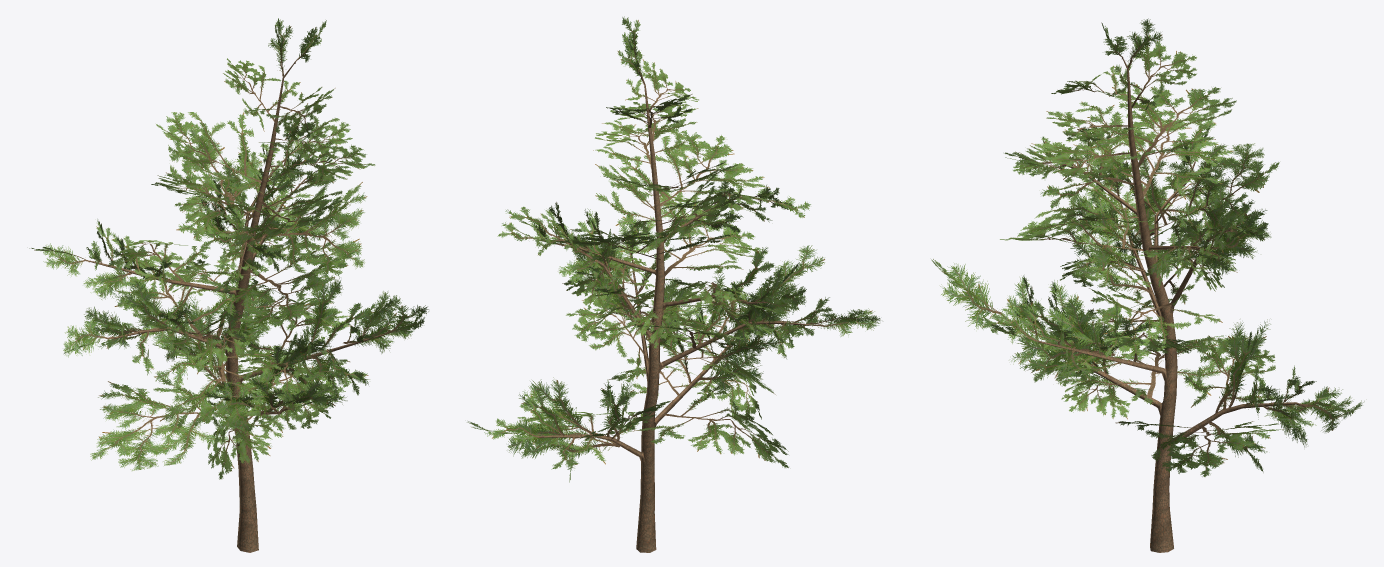
3 views of the same model, side by side, from view 1: azimuth 30°, elevation 25°; view 2: azimuth 150°, elevation 25°; view 3: azimuth 270°, elevation 25° (orthographic). The views are drawn at different scales.
Parts seen in each view (by area): view 1: Pine_small_1_LOD2_Bark_Mat_0; view 2: Pine_small_1_LOD2_Bark_Mat_0; view 3: Pine_small_1_LOD2_Bark_Mat_0.
Part boxes in pixels (left/top/right/bottom): Pine_small_1_LOD2_Bark_Mat_0: left=29, top=18, right=428, bottom=552; Pine_small_1_LOD2_Bark_Mat_0: left=467, top=16, right=880, bottom=552; Pine_small_1_LOD2_Bark_Mat_0: left=931, top=18, right=1364, bottom=552.
Size of the model in its own units: 3.02 by 4.35 by 3.21.
